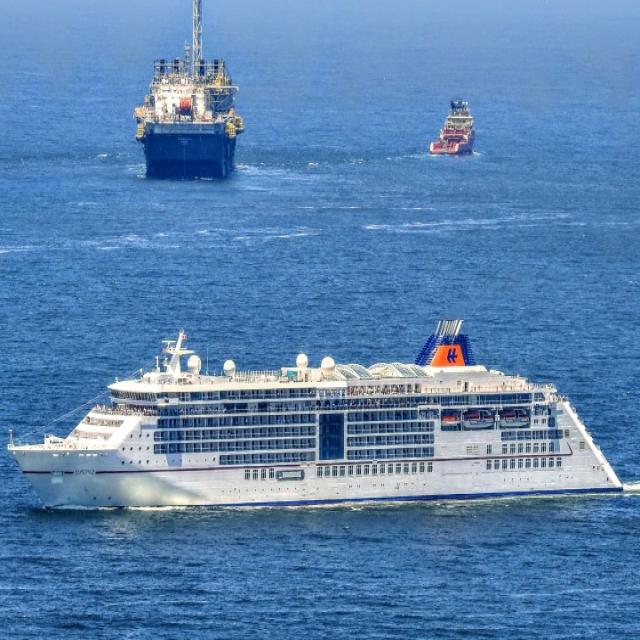cruises: (2, 310, 623, 517)
